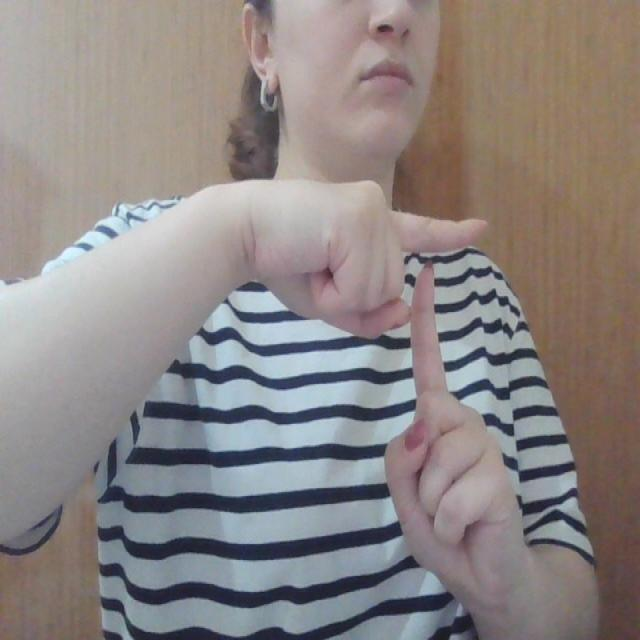Tesekkurler: (356, 198, 486, 444)
